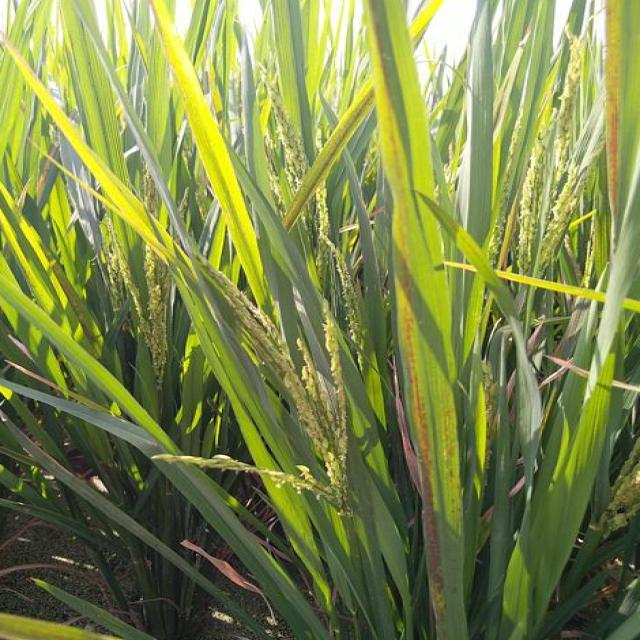Leaf Streak: (368, 0, 453, 640), (285, 88, 374, 231), (605, 0, 626, 240), (42, 245, 93, 341), (447, 388, 462, 534)
